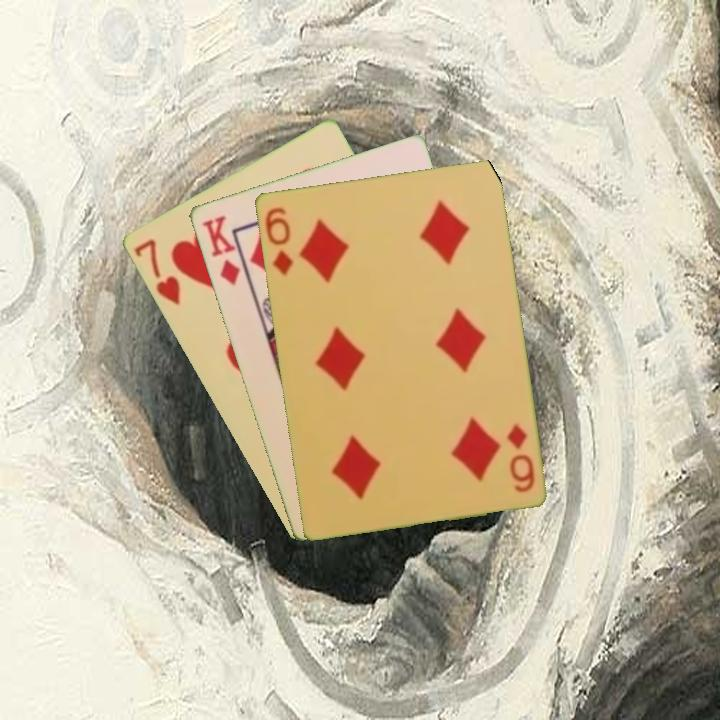6d: (261, 203, 295, 279), (503, 419, 537, 495)
7h: (130, 235, 183, 309)
Kd: (198, 211, 242, 288)
